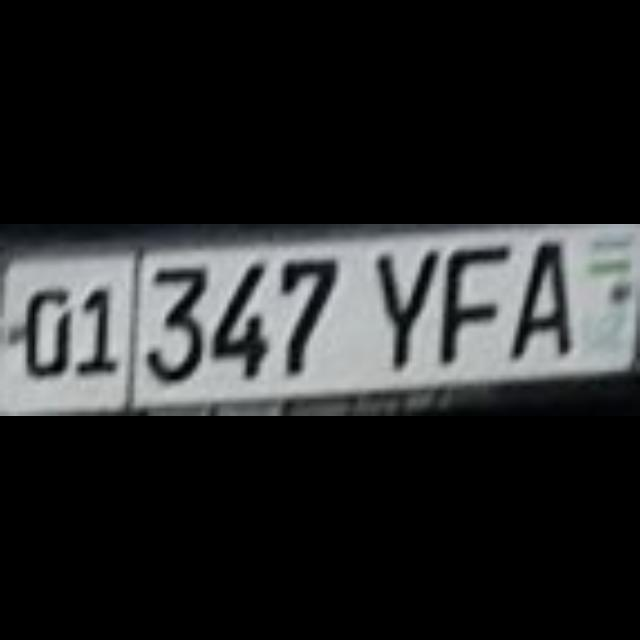0: (22, 282, 68, 376)
1: (72, 286, 112, 372)
3: (143, 264, 201, 376)
4: (206, 260, 264, 376)
7: (278, 256, 336, 372)
A: (502, 238, 568, 354)
F: (438, 242, 506, 358)
Y: (372, 246, 434, 368)
